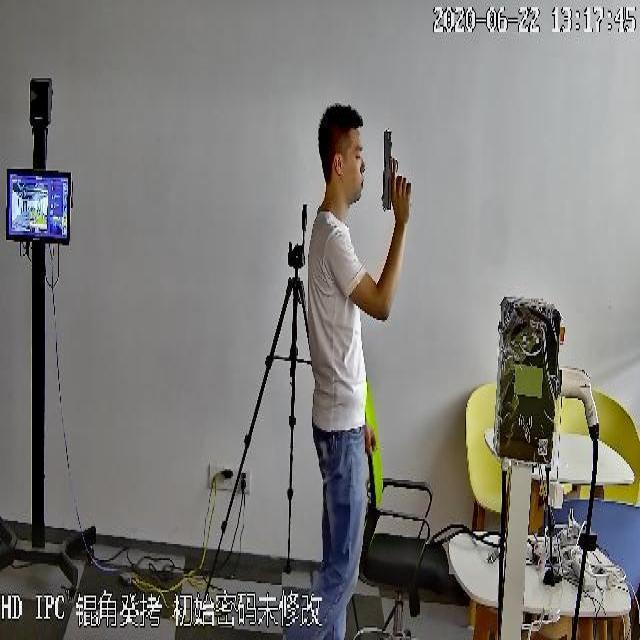pistol: (383, 123, 412, 219)
